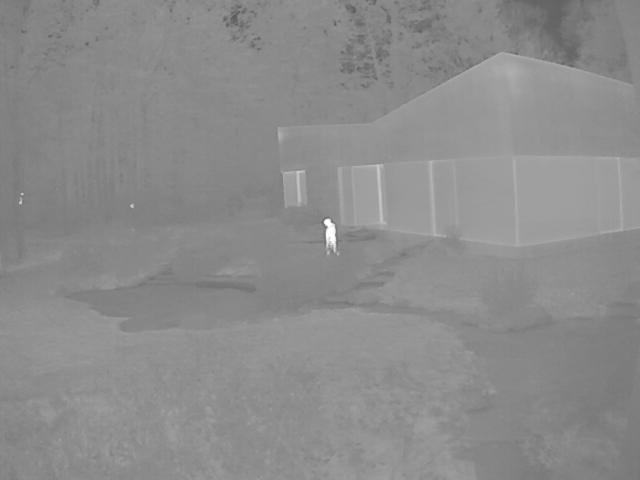person: (324, 217, 341, 255)
